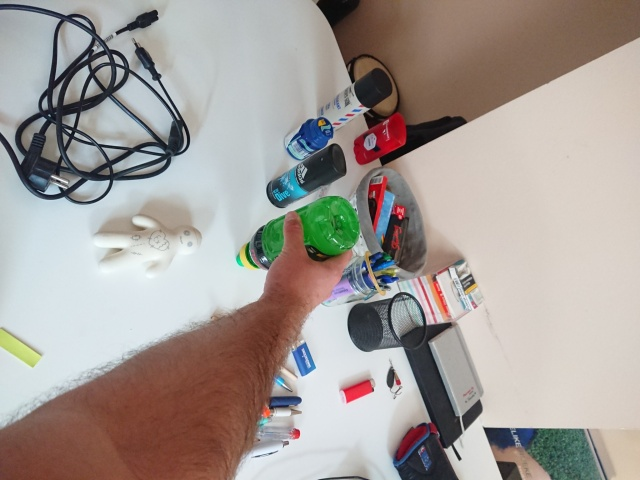Vindi Iso Sport Lemon-Grapefruit 500mL: (233, 193, 363, 273)
